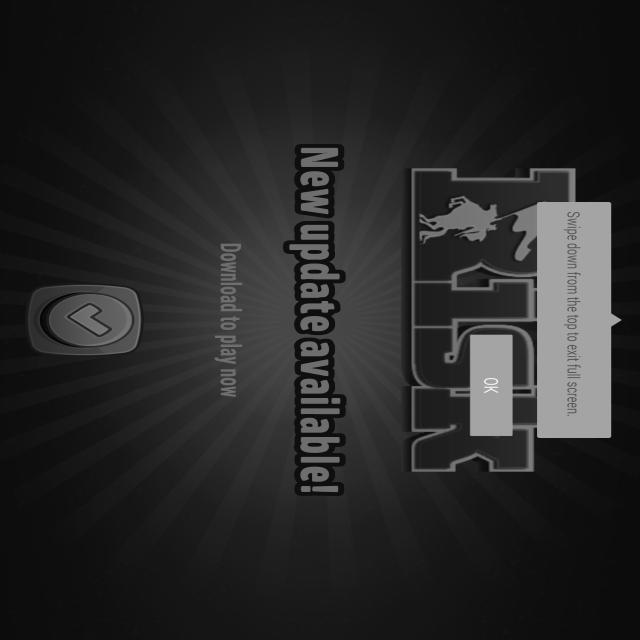ImageButton: (24, 282, 150, 361), (463, 327, 522, 442)
TextView: (278, 142, 369, 502), (208, 238, 255, 402), (557, 207, 590, 417)
